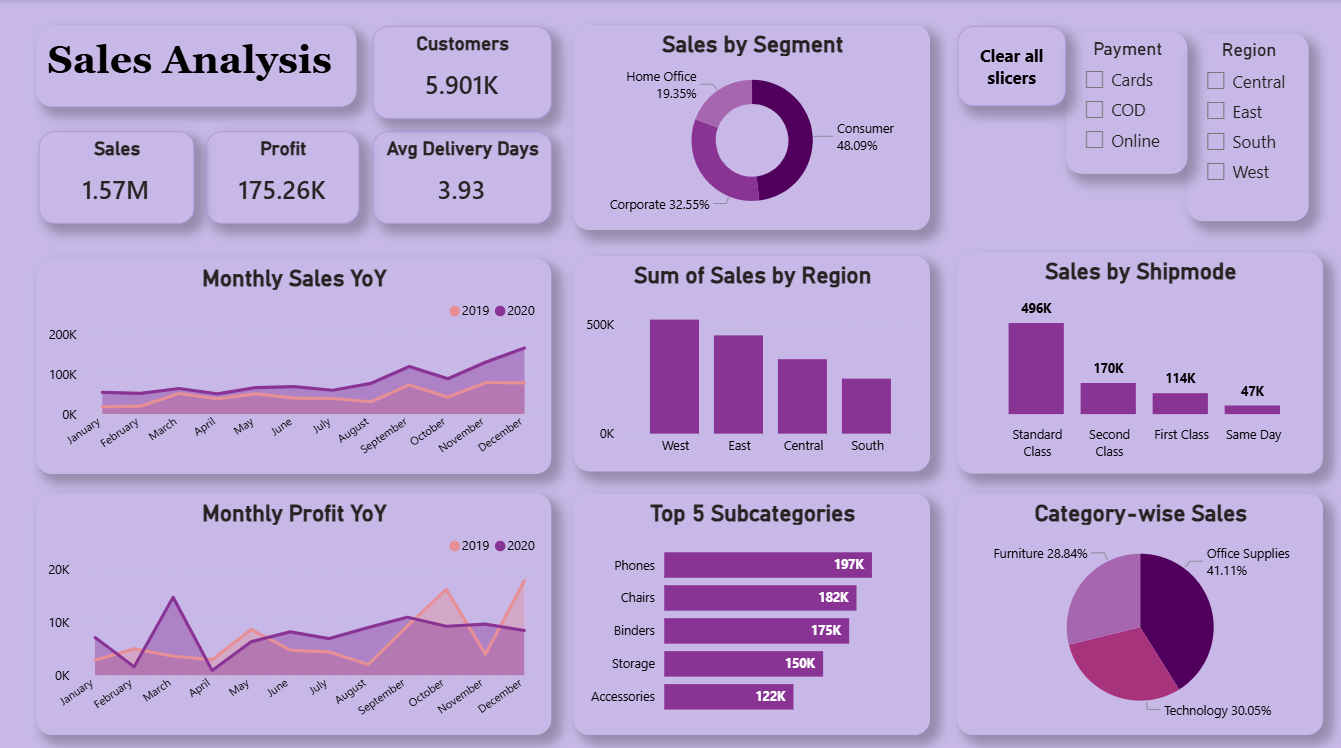

The page's visual inventory and layout, read from the dashboard file:
{"tool":"powerbi","page":{"name":"Sales","canvas":[1280,720],"ordinal":0},"visuals":[{"type":"donutChart","title":"Sales by Segment","fields":{"Y":["Sum(SuperStore_Sales.Sales)"],"Category":["SuperStore_Sales.Segment"]},"box":[546.4,23.8,339.3,195.2],"z":0},{"type":"clusteredColumnChart","fields":{"Category":["SuperStore_Sales.Region"],"Y":["Sum(SuperStore_Sales.Sales)"]},"box":[546.4,244,339.3,204.8],"z":1000},{"type":"pieChart","title":"Category-wise Sales","fields":{"Category":["SuperStore_Sales.Category"],"Y":["Sum(SuperStore_Sales.Sales)"]},"box":[911.9,470.2,347.6,229.8],"z":2000},{"type":"clusteredColumnChart","title":"Sales by Shipmode","fields":{"Category":["SuperStore_Sales.Ship Mode"],"Y":["Sum(SuperStore_Sales.Sales)"]},"box":[911.9,240.5,347.6,210.7],"z":3000},{"type":"clusteredBarChart","title":"Top 5 Subcategories","fields":{"Y":["Sum(SuperStore_Sales.Sales)"],"Category":["SuperStore_Sales.Sub-Category"]},"box":[546.4,470.2,339.3,229.8],"z":4000},{"type":"areaChart","title":"Monthly Sales YoY","fields":{"Category":["SuperStore_Sales.Order Date.Variation.Date Hierarchy.Month","SuperStore_Sales.Order Date.Variation.Date Hierarchy.Day"],"Y":["Sum(SuperStore_Sales.Sales)"],"Series":["SuperStore_Sales.Order Date.Variation.Date Hierarchy.Year"]},"box":[34.5,246.4,490.5,204.8],"z":5000},{"type":"areaChart","title":"Monthly Profit YoY","fields":{"Category":["SuperStore_Sales.Order Date.Variation.Date Hierarchy.Month","SuperStore_Sales.Order Date.Variation.Date Hierarchy.Day"],"Series":["SuperStore_Sales.Order Date.Variation.Date Hierarchy.Year"],"Y":["Sum(SuperStore_Sales.Profit)"]},"box":[34.5,470.2,490.5,229.8],"z":6000},{"type":"textbox","box":[34.5,23.8,304.8,77.4],"z":7000},{"type":"slicer","title":"Region","fields":{"Values":["SuperStore_Sales.Region"]},"box":[1131.2,32.6,115.5,178.6],"z":8000},{"type":"cardVisual","title":"Sales","fields":{"Data":["Sum(SuperStore_Sales.Sales)"]},"box":[36.4,124.8,147.6,88.1],"z":9000},{"type":"slicer","title":"Payment","fields":{"Values":["SuperStore_Sales.Payment Mode"]},"box":[1015.7,31.4,115.5,134.5],"z":10000},{"type":"cardVisual","title":"Profit","fields":{"Data":["Sum(SuperStore_Sales.Profit)"]},"box":[196,124.8,145.2,88.1],"z":11000},{"type":"cardVisual","title":"Customers","fields":{"Data":["CountNonNull(SuperStore_Sales.Customer ID)"]},"box":[354.8,25,170.2,88.1],"z":12000},{"type":"actionButton","box":[911.9,25,103.6,76.2],"z":13000},{"type":"cardVisual","title":"Avg Delivery Days","fields":{"Data":["Avg(SuperStore_Sales.AvgDelivery)"]},"box":[354.8,125,170.2,88.1],"z":14000}]}

Visuals, with their boxes in screenshot pixels (x1, y1, x2, y2), scaled from the page's 1280x720 canvas onto the 1341x748 screenshot:
"Sales by Segment" donutChart: bbox=(572, 25, 928, 228)
clusteredColumnChart - SuperStore_Sales.Region x Sum(SuperStore_Sales.Sales): bbox=(572, 253, 928, 466)
"Category-wise Sales" pieChart: bbox=(955, 488, 1320, 727)
"Sales by Shipmode" clusteredColumnChart: bbox=(955, 250, 1320, 469)
"Top 5 Subcategories" clusteredBarChart: bbox=(572, 488, 928, 727)
"Monthly Sales YoY" areaChart: bbox=(36, 256, 550, 469)
"Monthly Profit YoY" areaChart: bbox=(36, 488, 550, 727)
textbox: bbox=(36, 25, 355, 105)
"Region" slicer: bbox=(1185, 34, 1306, 219)
"Sales" cardVisual: bbox=(38, 130, 193, 221)
"Payment" slicer: bbox=(1064, 33, 1185, 172)
"Profit" cardVisual: bbox=(205, 130, 357, 221)
"Customers" cardVisual: bbox=(372, 26, 550, 117)
actionButton: bbox=(955, 26, 1064, 105)
"Avg Delivery Days" cardVisual: bbox=(372, 130, 550, 221)
